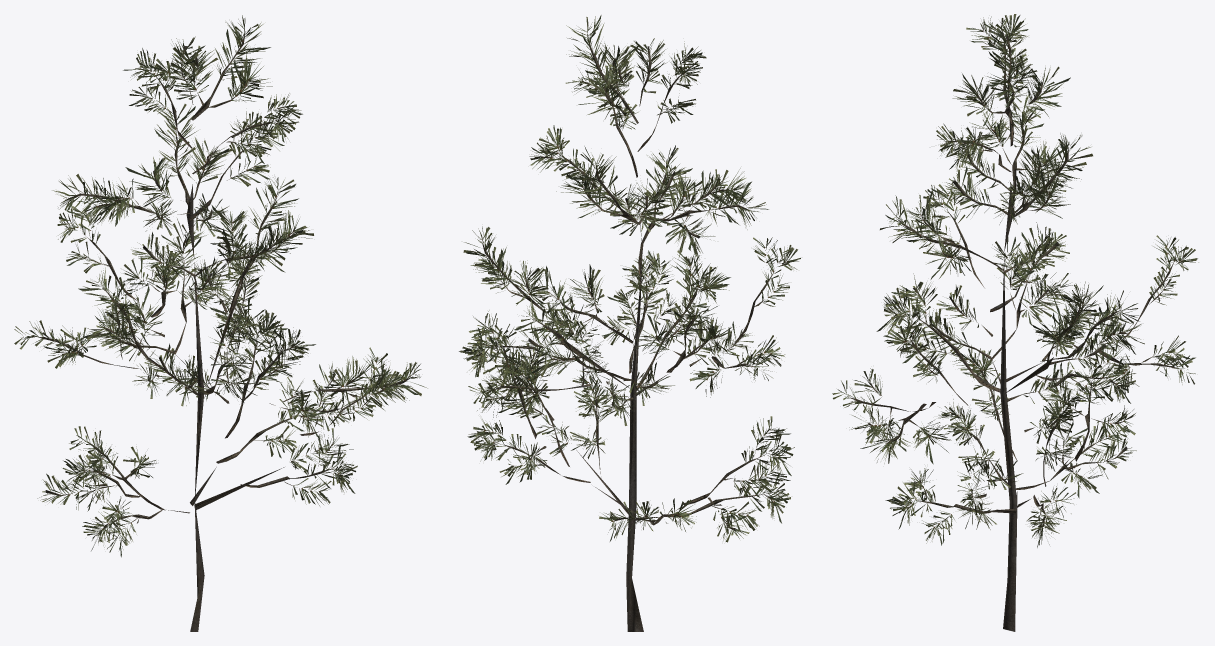
Rendered from pine-full.glb.
The picture shows the model from 3 angles, left to right: view 1: azimuth 30°, elevation 25°; view 2: azimuth 150°, elevation 25°; view 3: azimuth 270°, elevation 25°; orthographic projection.
Parts seen in each view (by area): view 1: pine_sapling_small_a; view 2: pine_sapling_small_a; view 3: pine_sapling_small_a.
Part boxes in pixels (<box>): pine_sapling_small_a: <box>14,15,427,631</box>; pine_sapling_small_a: <box>459,15,800,631</box>; pine_sapling_small_a: <box>832,14,1198,631</box>.
Size of the model in its own units: 0.7857 by 1.3 by 0.7205.
Materials: 2 (2 with a texture image).
